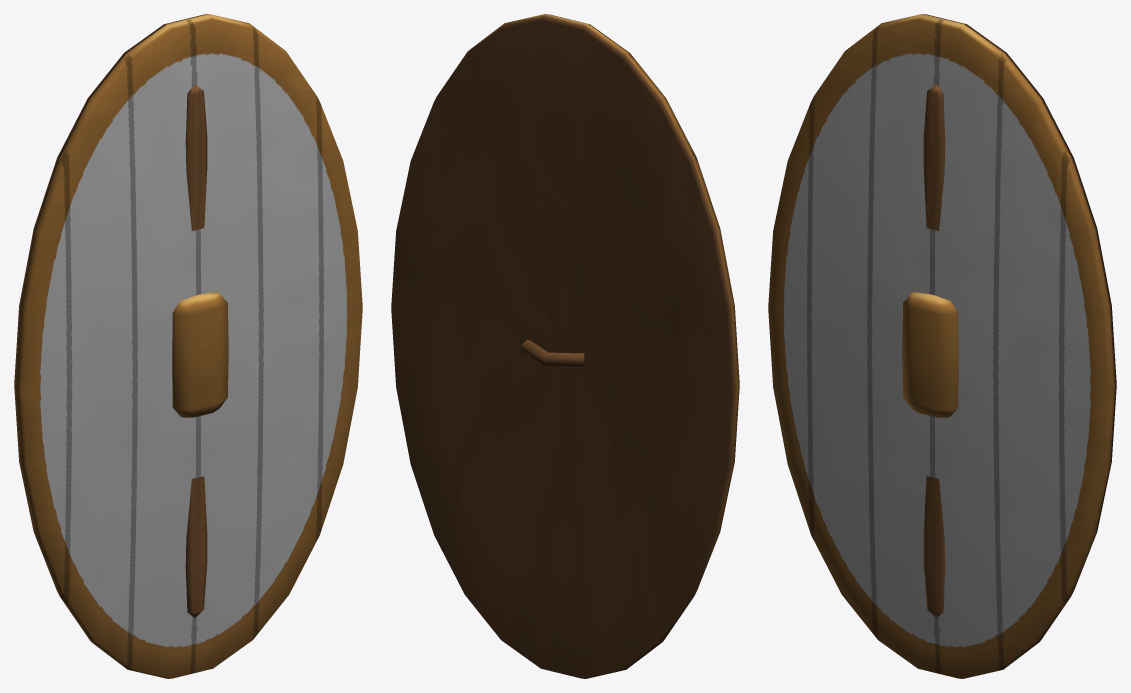
File: bouclier-celte.glb
3 renders of one model, left to right at view 1: azimuth 30°, elevation 25°; view 2: azimuth 150°, elevation 25°; view 3: azimuth 330°, elevation 25°, orthographic.
Parts seen in each view (by area): view 1: bouclier-celte; view 2: bouclier-celte; view 3: bouclier-celte.
Boxes of the visible parts, x1=… form: bouclier-celte: x1=14, y1=14, x2=362, y2=678; bouclier-celte: x1=391, y1=14, x2=739, y2=678; bouclier-celte: x1=768, y1=14, x2=1116, y2=678.
Size of the model in its own units: 0.606 by 1.1 by 0.1189.
Materials: 1 (1 with a texture image).
